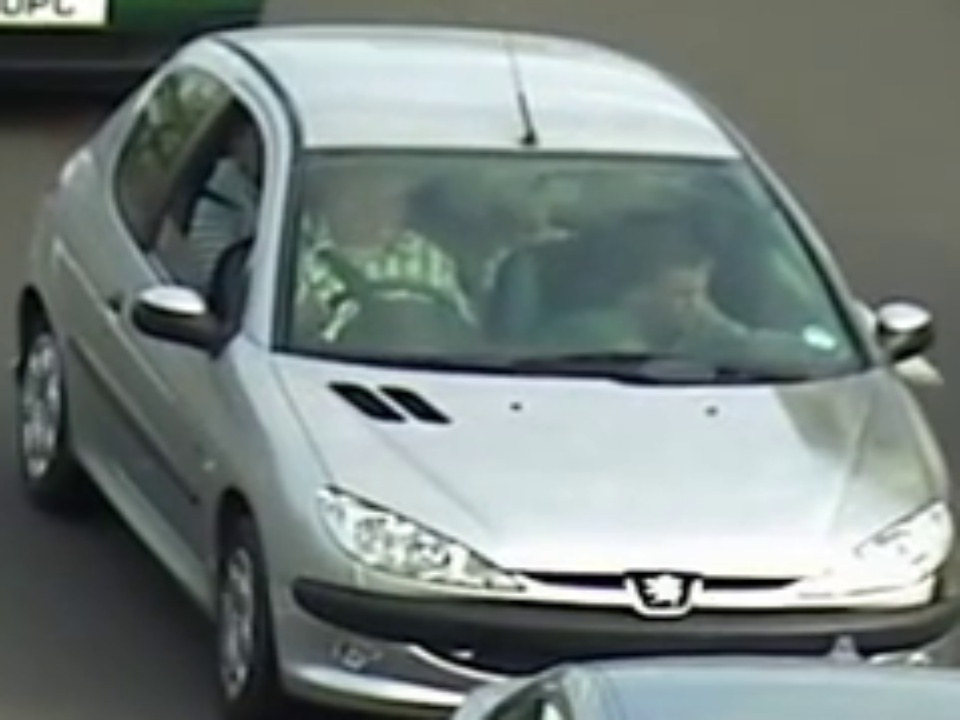TWO: (274, 138, 864, 370)
